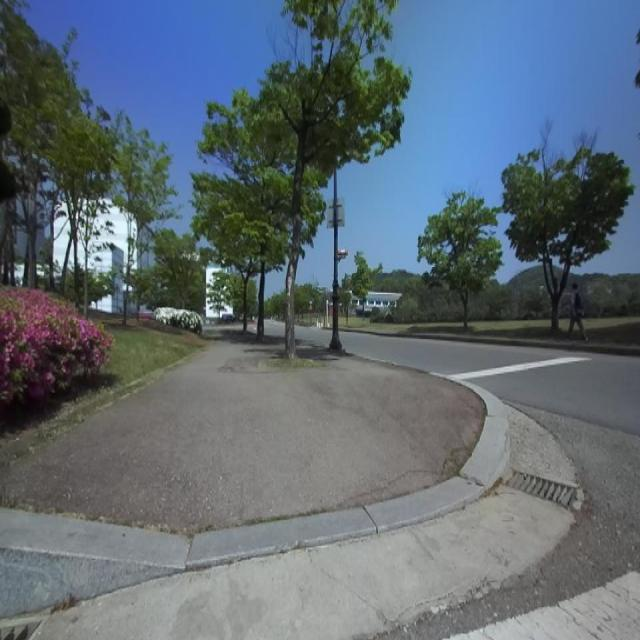sidewalk: (0, 337, 485, 532)
